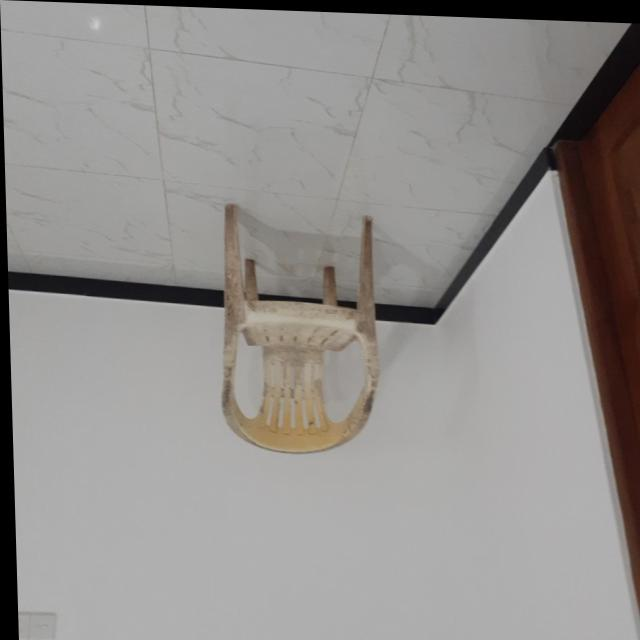Chair: (214, 201, 380, 454)
